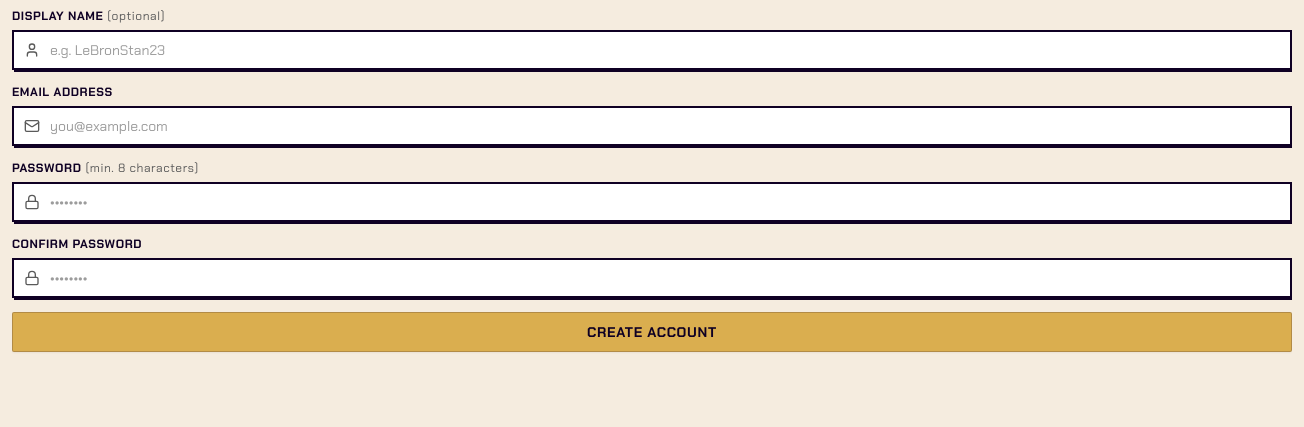
Test: Auth Components › RegisterForm › validates matching confirm password
The image size is (1304, 427).
Type "user@example.com" into the field with placeholder "you@example.com" at (652, 126), box [12,106,1292,146]
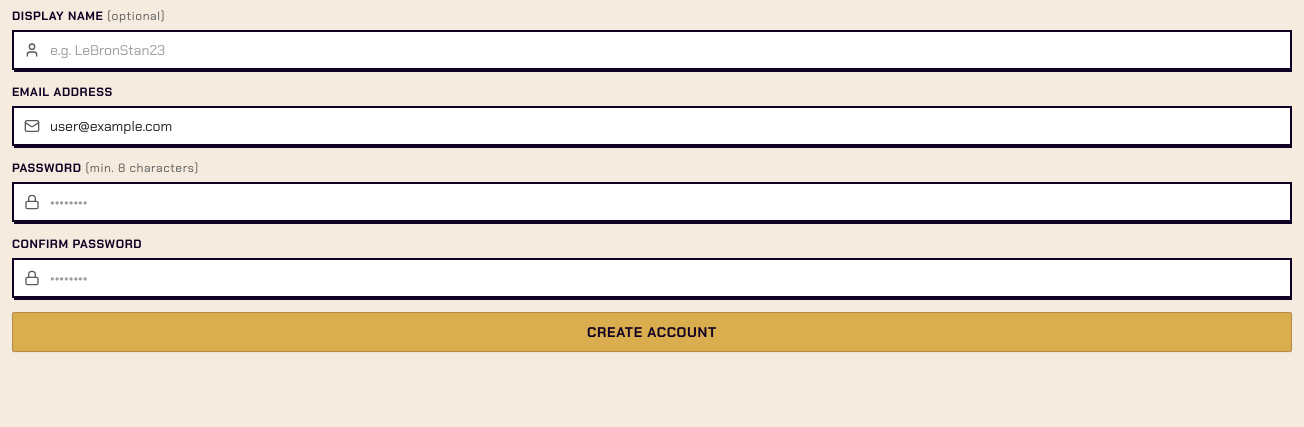
Type "password123" into the password field with placeholder "••••••••" below "(min. 8 characters)" at (652, 202), box [12,182,1292,222]
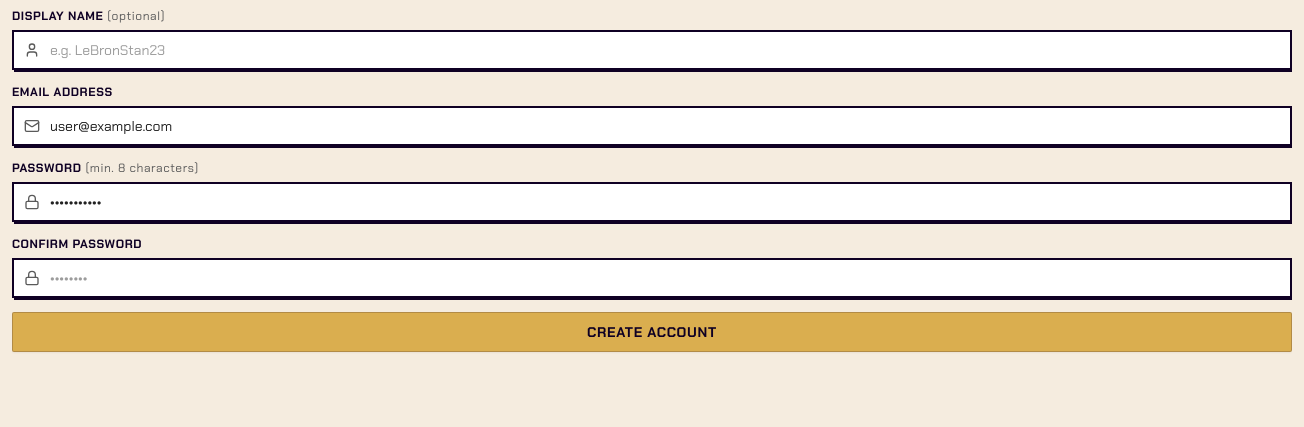
Type "different123" into the password field with placeholder "••••••••" at (652, 278), box [12,258,1292,298]
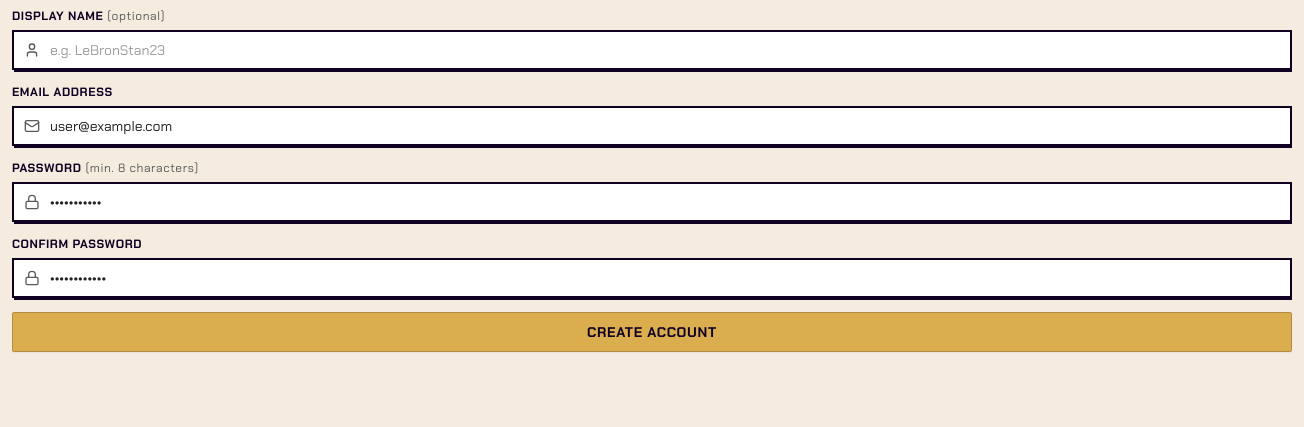
Click the button "Create Account" at (652, 332), box [12,312,1292,352]
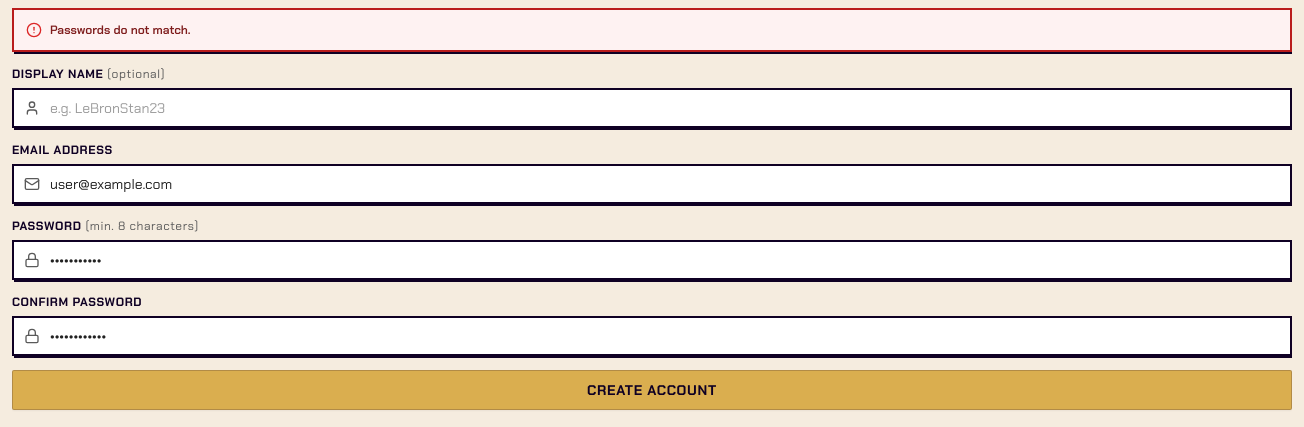
Expected: the text "Passwords do not match." is shown, [50,22,191,38]
